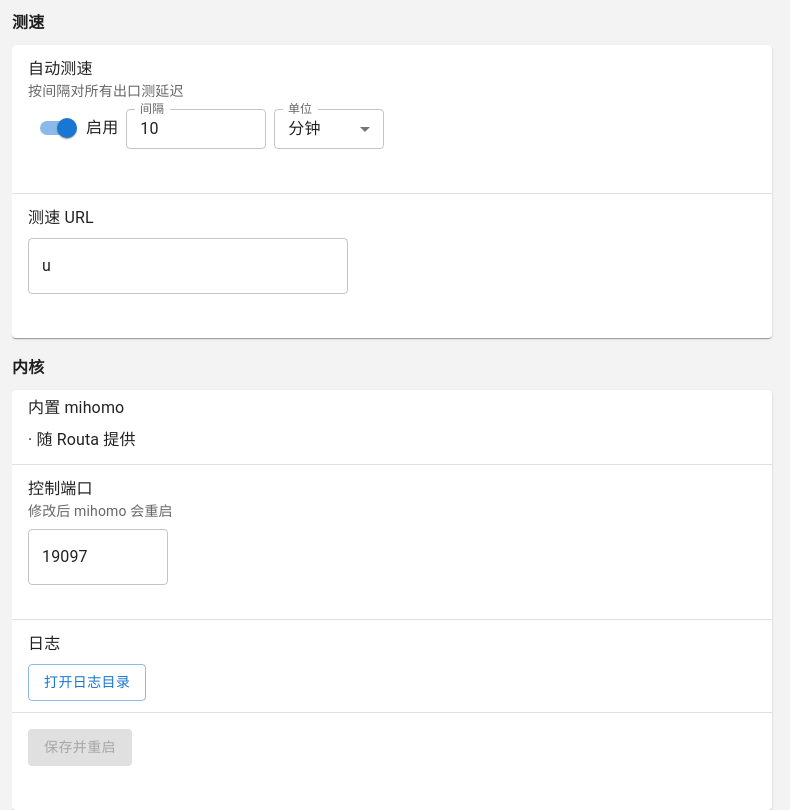
Settings › isolates an invalid core draft from immediate saves and keeps later saves current
(page scrolled)
Replace the text in the number field named "控制端口" with "99999" at (98, 557), box top-left (28, 529), bottom-right (168, 585)
(page scrolled)
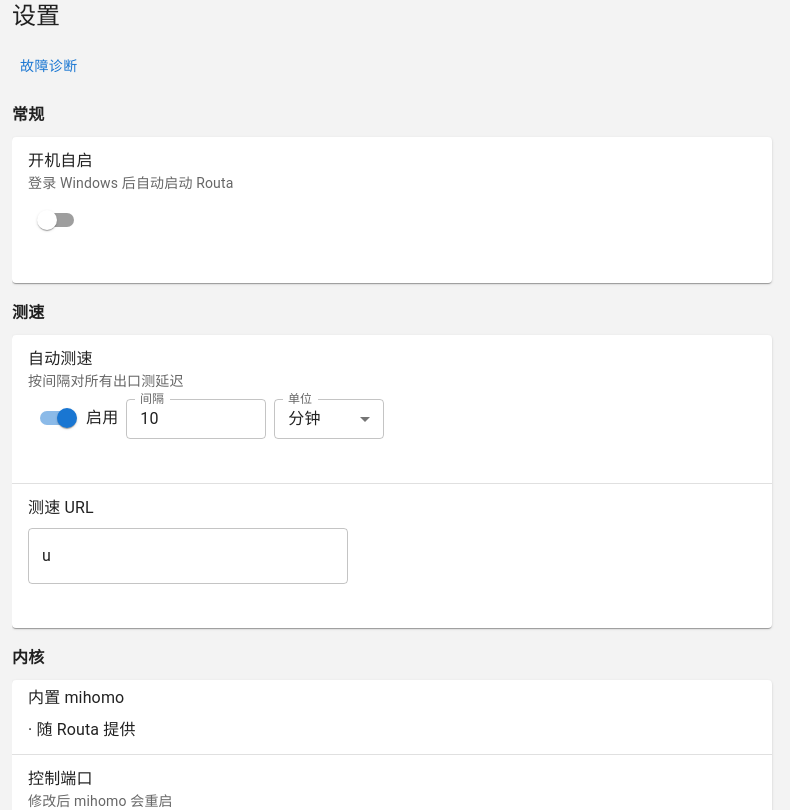
Click the switch named "开机自启".
click(47, 220)  # box top-left (37, 210), bottom-right (57, 230)
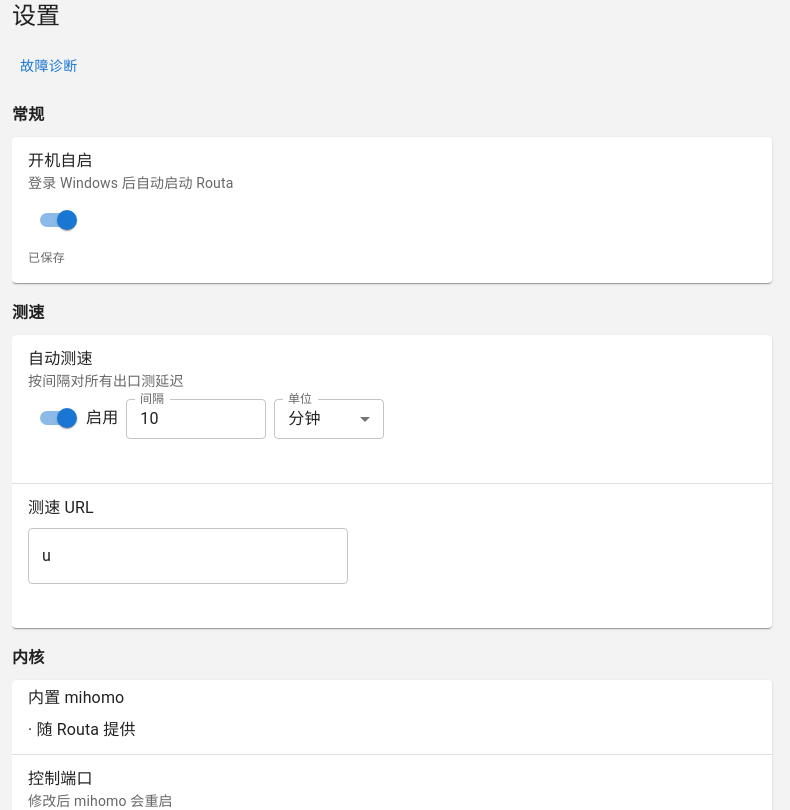
expect the text "已保存" is shown: met, box top-left (28, 249), bottom-right (65, 268)
Replace the text in the field named "测速 URL" with "https://new.test" at (188, 556), box top-left (28, 528), bottom-right (348, 584)
Press Enter in the field named "测速 URL", box top-left (28, 528), bottom-right (348, 584)
(page scrolled)
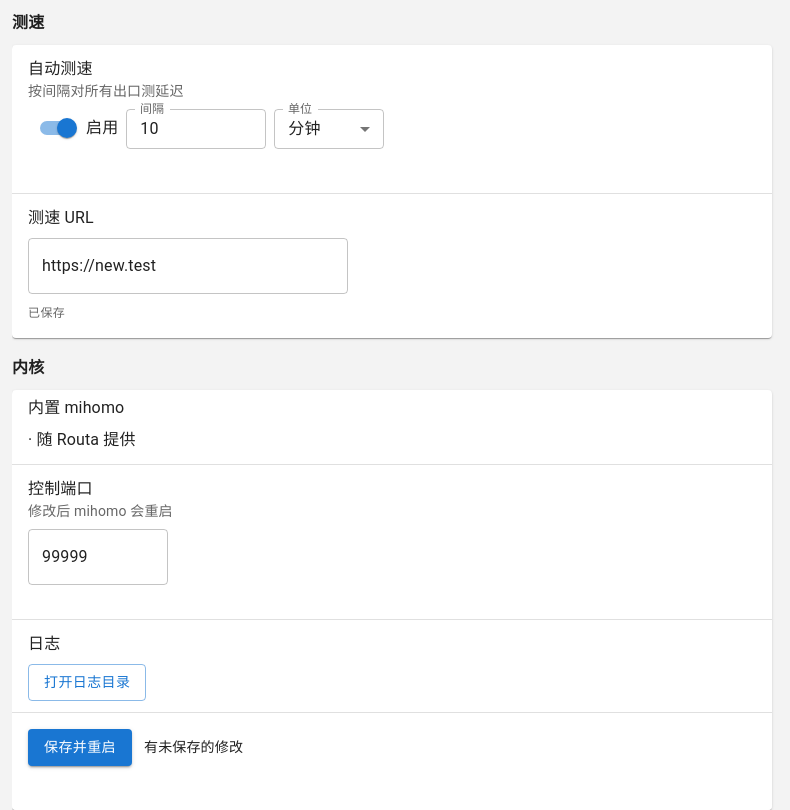
expect the button "保存并重启" is enabled: met
Click the button "保存并重启".
click(80, 747)  # box top-left (28, 729), bottom-right (132, 766)
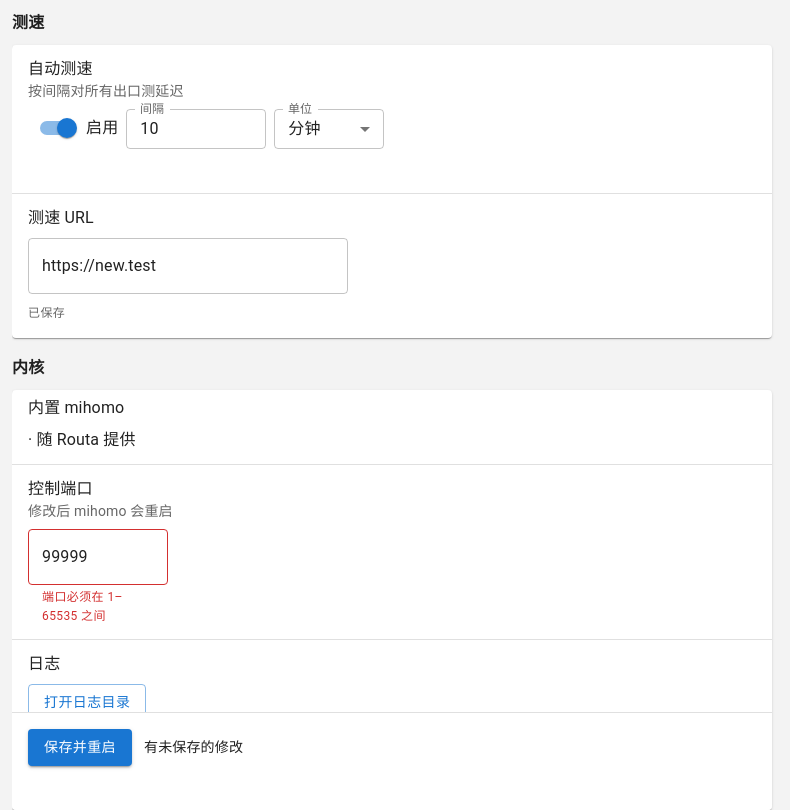
expect the text "端口必须在 1–65535 之间" is shown: met, box top-left (42, 590), bottom-right (123, 624)
Replace the text in the number field named "控制端口" with "19100" at (98, 557), box top-left (28, 529), bottom-right (168, 585)
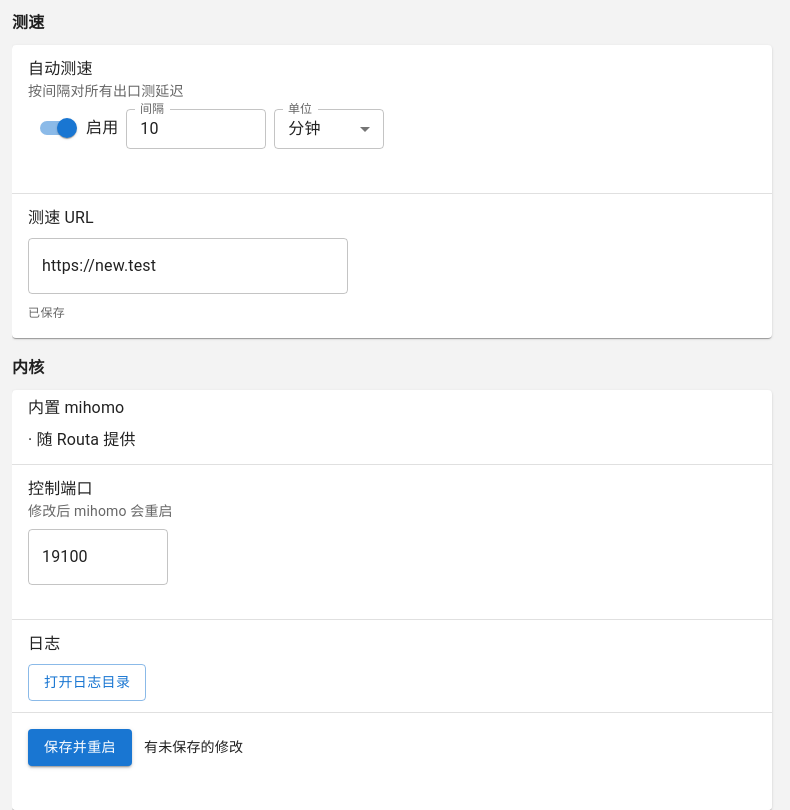
Click the button "保存并重启".
click(80, 747)  # box top-left (28, 729), bottom-right (132, 766)
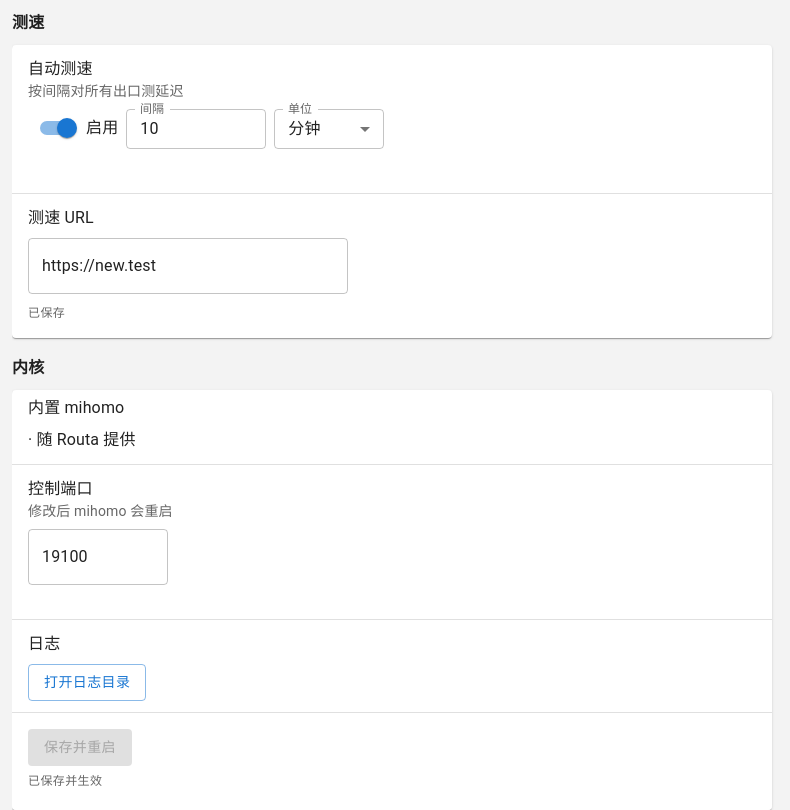
expect the text "已保存并生效" is shown: met, box top-left (28, 772), bottom-right (102, 792)
